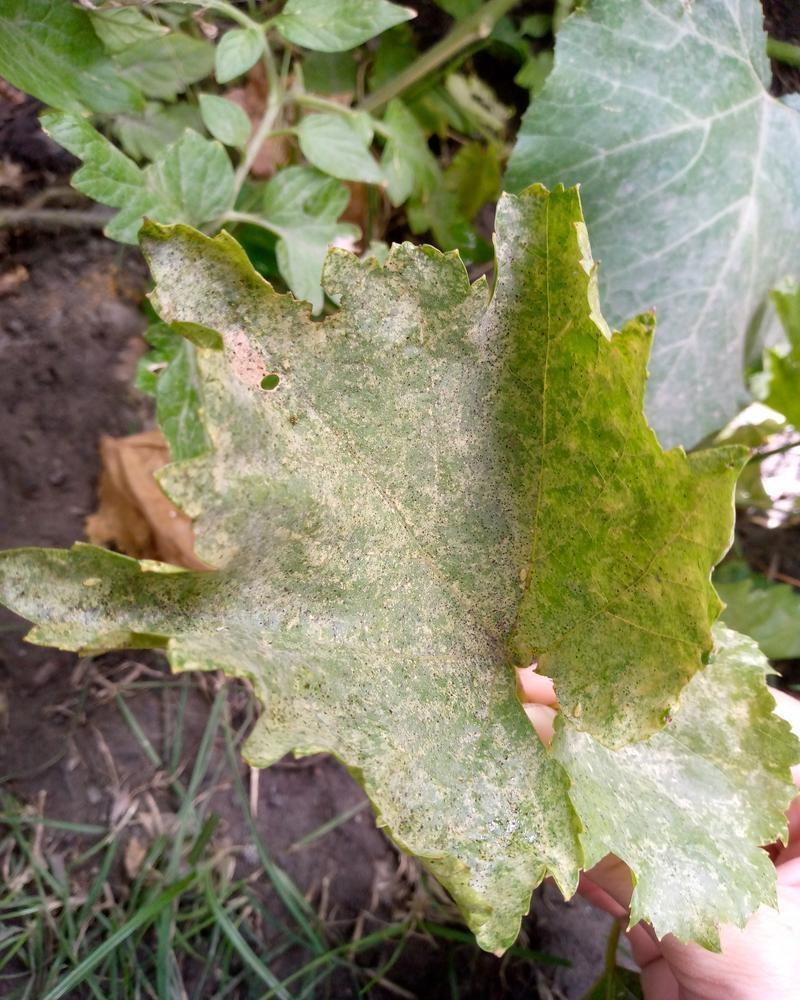Powdery-Mildew: (146, 243, 470, 562), (565, 642, 791, 938), (316, 192, 543, 454), (168, 589, 377, 766), (363, 693, 545, 887), (0, 554, 143, 652), (452, 794, 460, 805), (721, 752, 725, 758)
